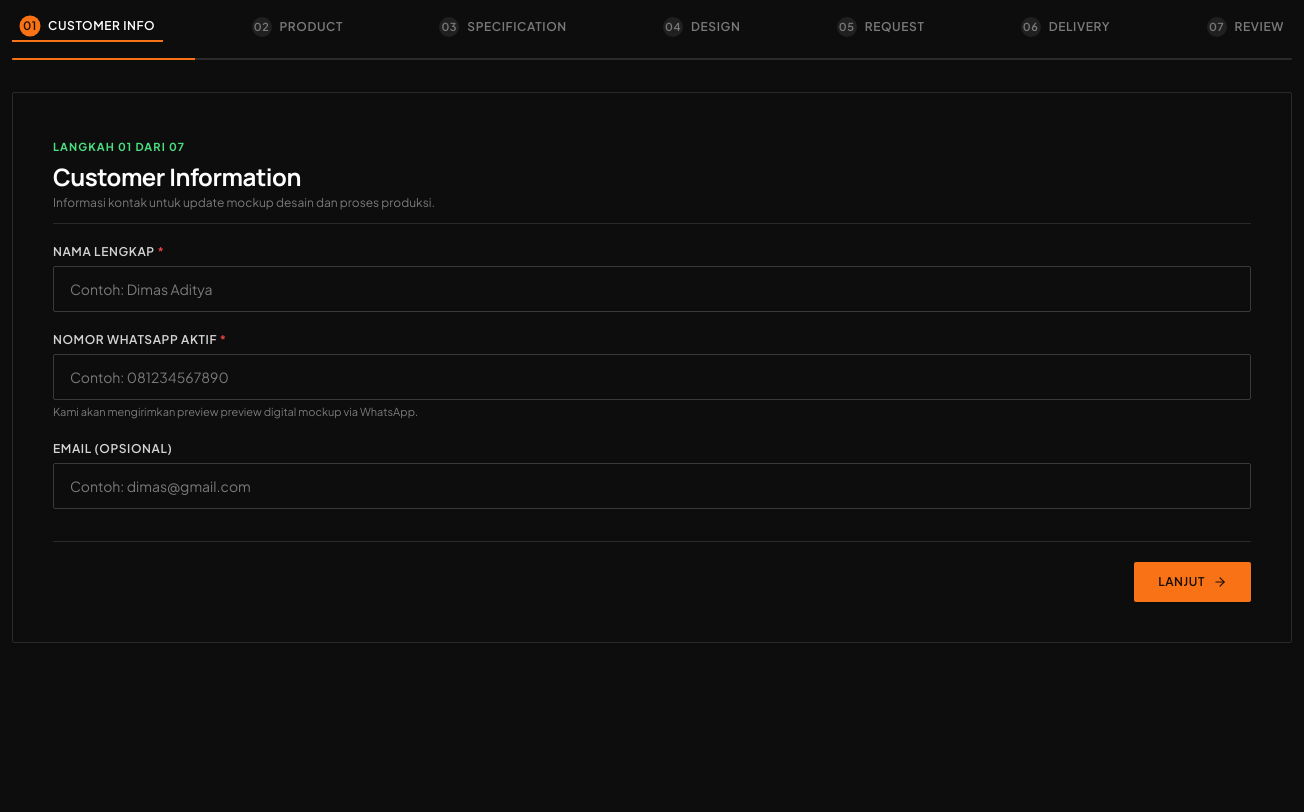
CustomOrderForm › pressing Enter (form submit) on an early step moves forward instead of creating a half-filled order
Type "Dimas" into the field with placeholder "Contoh: Dimas Aditya" at (652, 289), box [53, 266, 1251, 312]
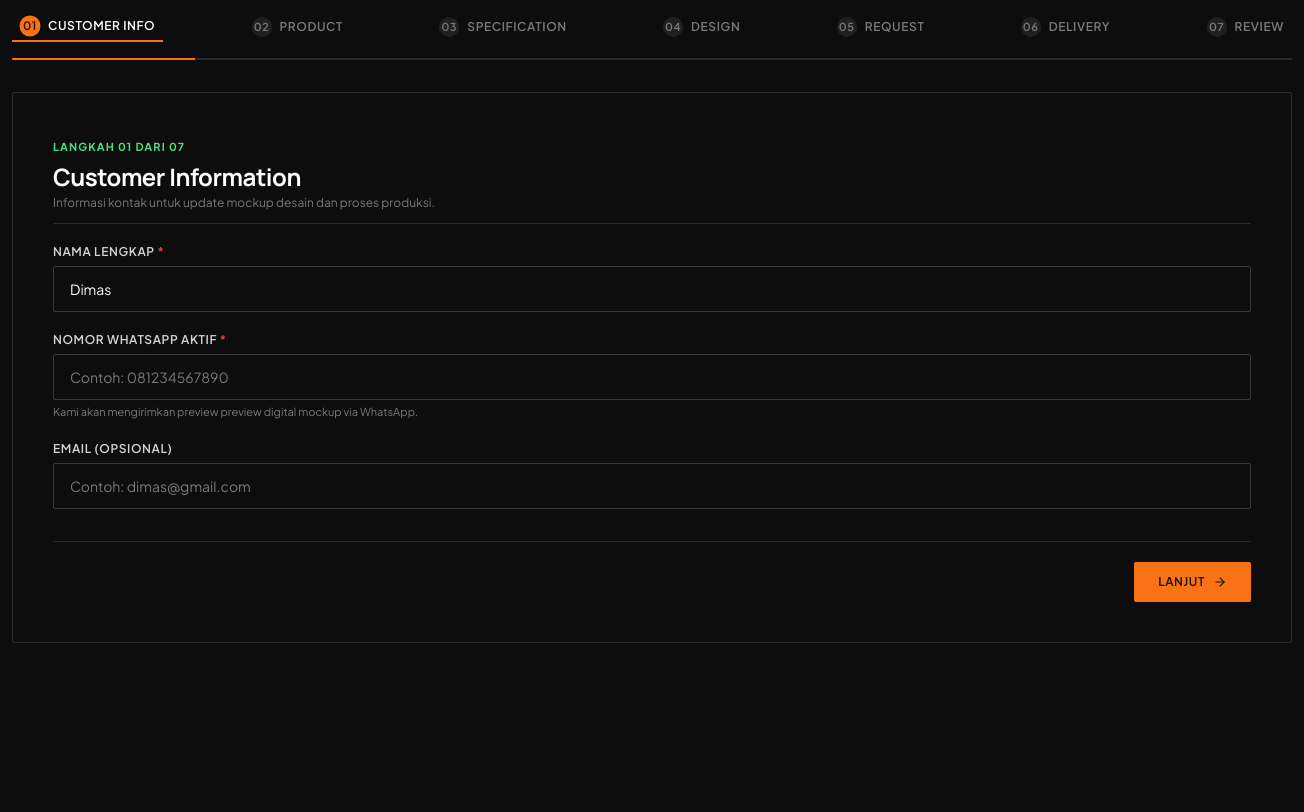
Type "081234567890" into the field with placeholder "Contoh: 081234567890" at (652, 377), box [53, 354, 1251, 400]
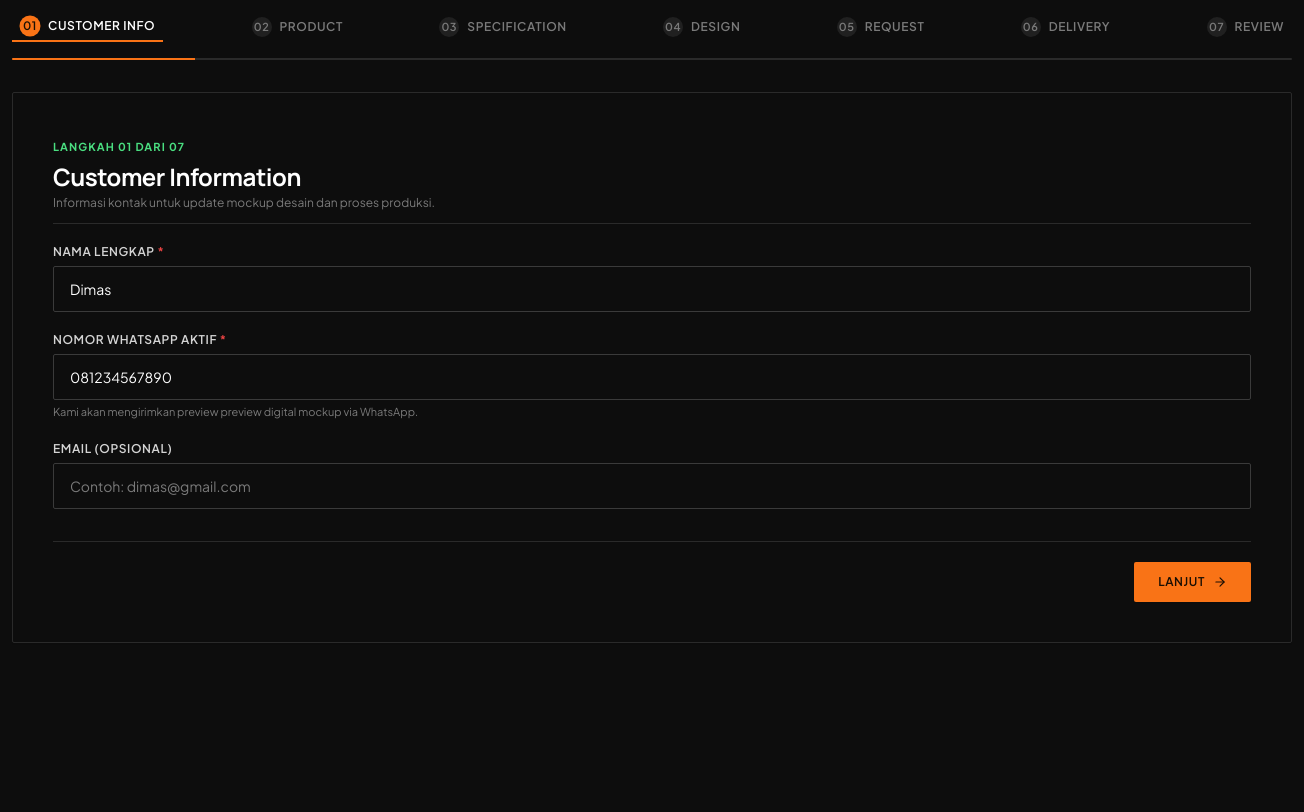
Submit the form, box [53, 133, 1251, 602]
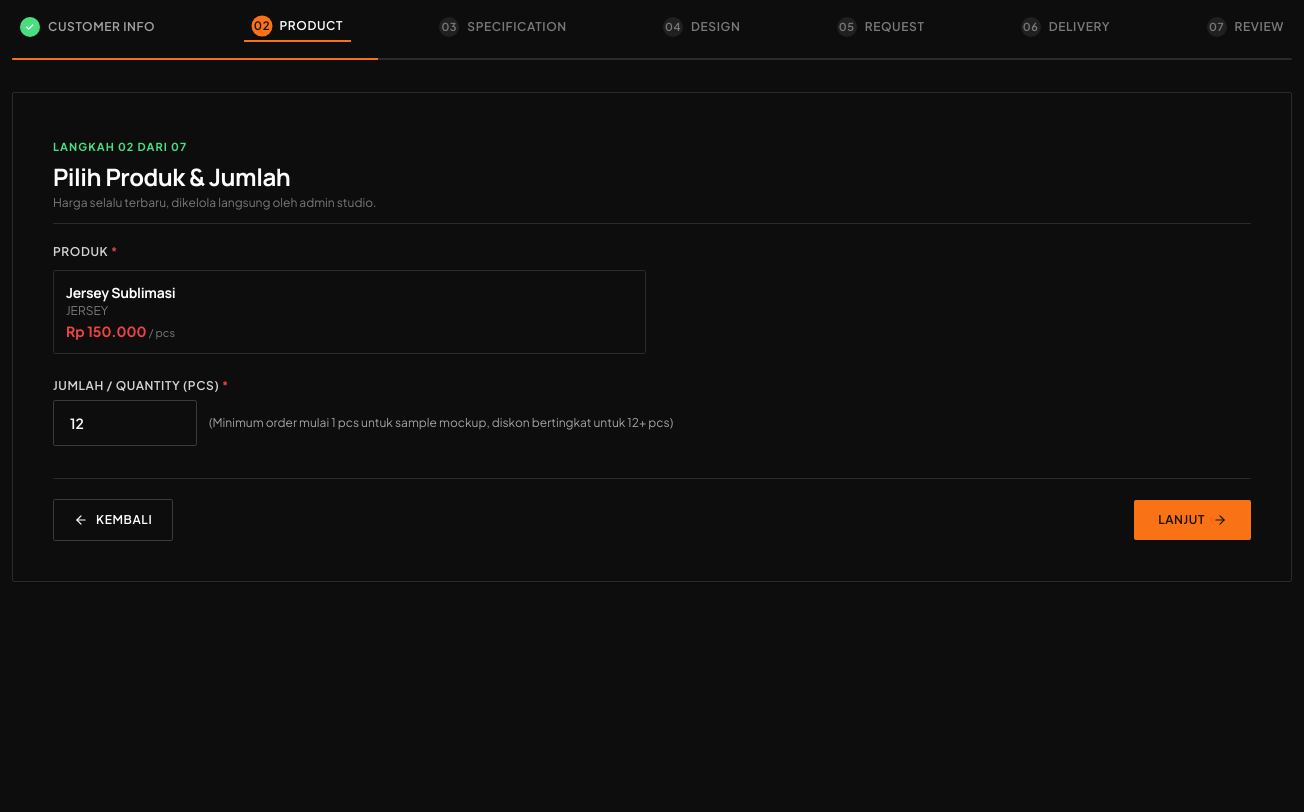
Expected: the text "LANGKAH 02 DARI 07" is shown, [53, 140, 187, 153]
